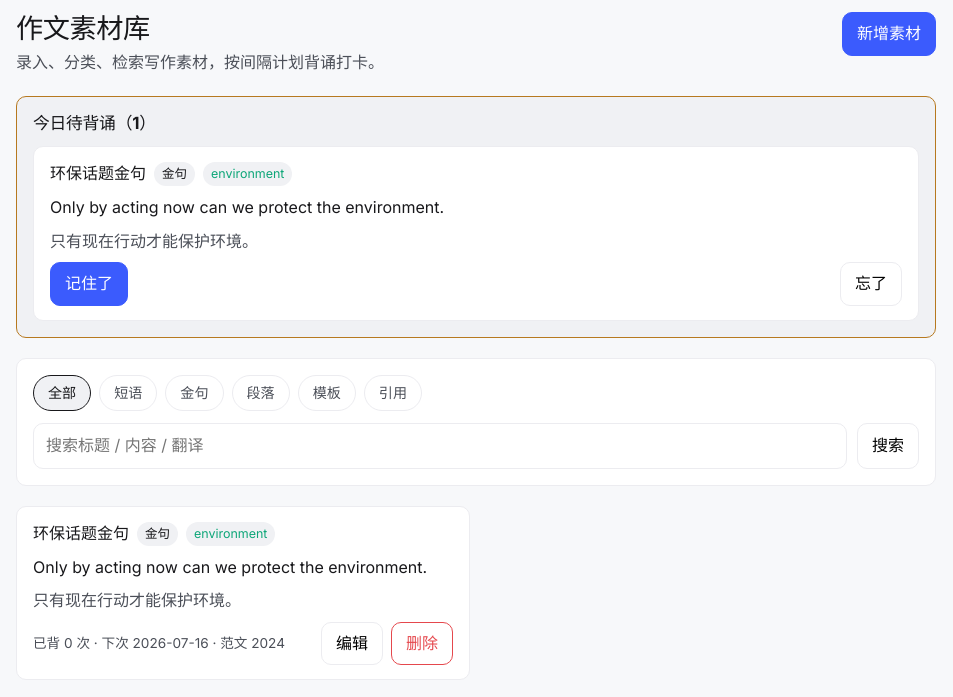
Scenario: EssayView › recites a due material
Click the button "记住了". click: x=89, y=284
box: [50, 262, 128, 306]
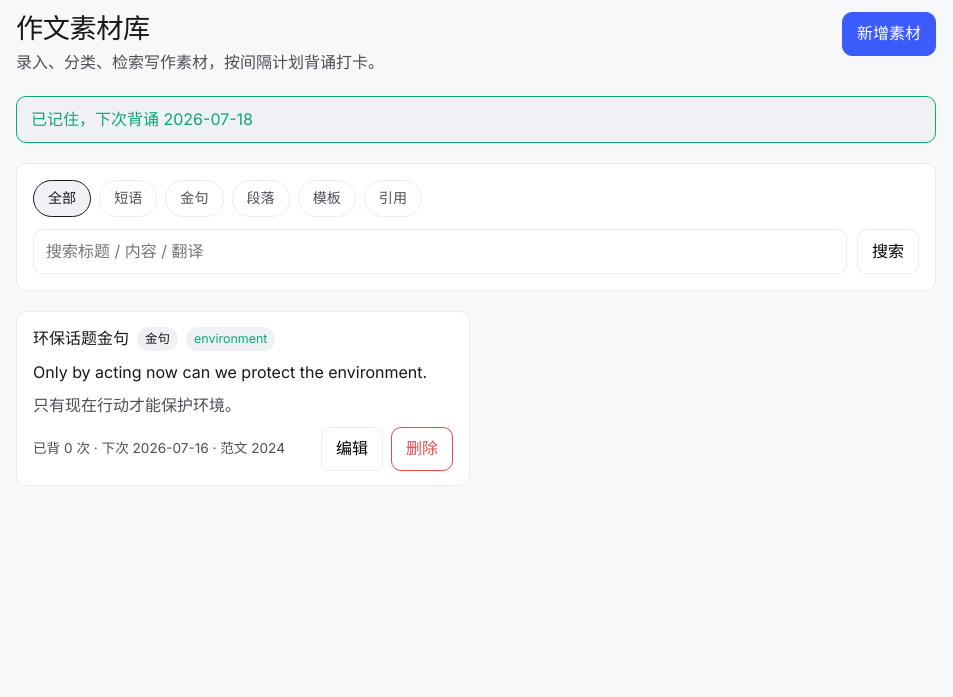
expect the text "下次背诵 2026-07-18" is shown: met, box [31, 109, 253, 129]
